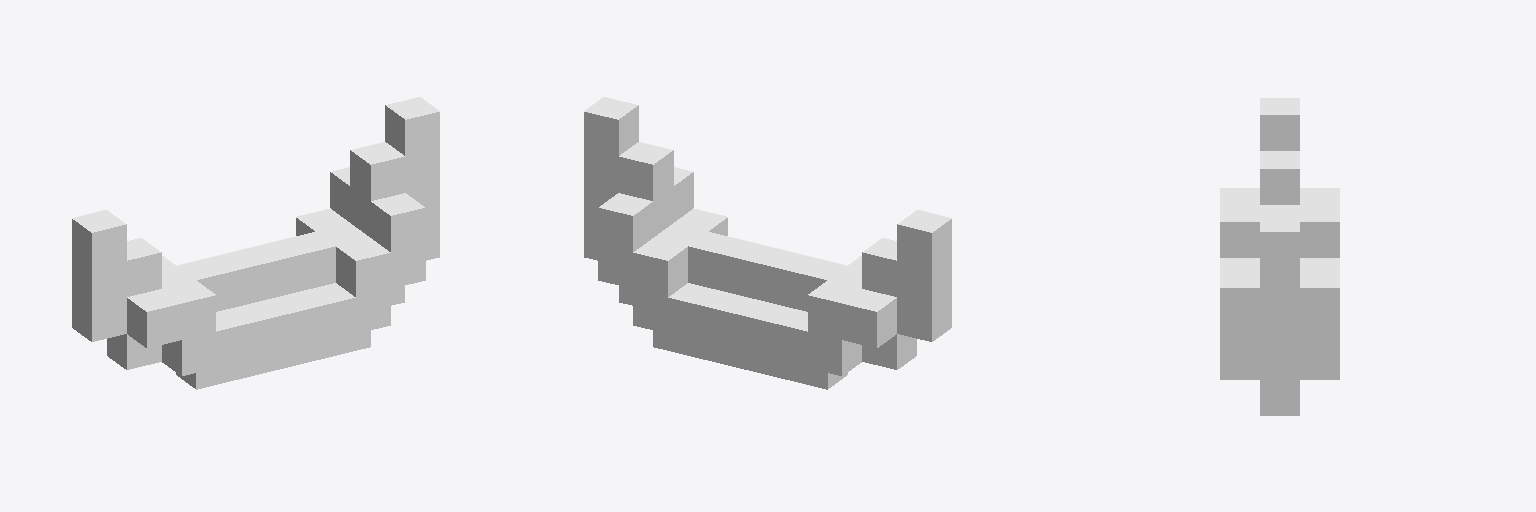
File: banana.obj
3 renders of one model, left to right at view 1: azimuth 30°, elevation 25°; view 2: azimuth 150°, elevation 25°; view 3: azimuth 270°, elevation 25°, orthographic.
Size of the model in its own units: 10 by 6 by 3.